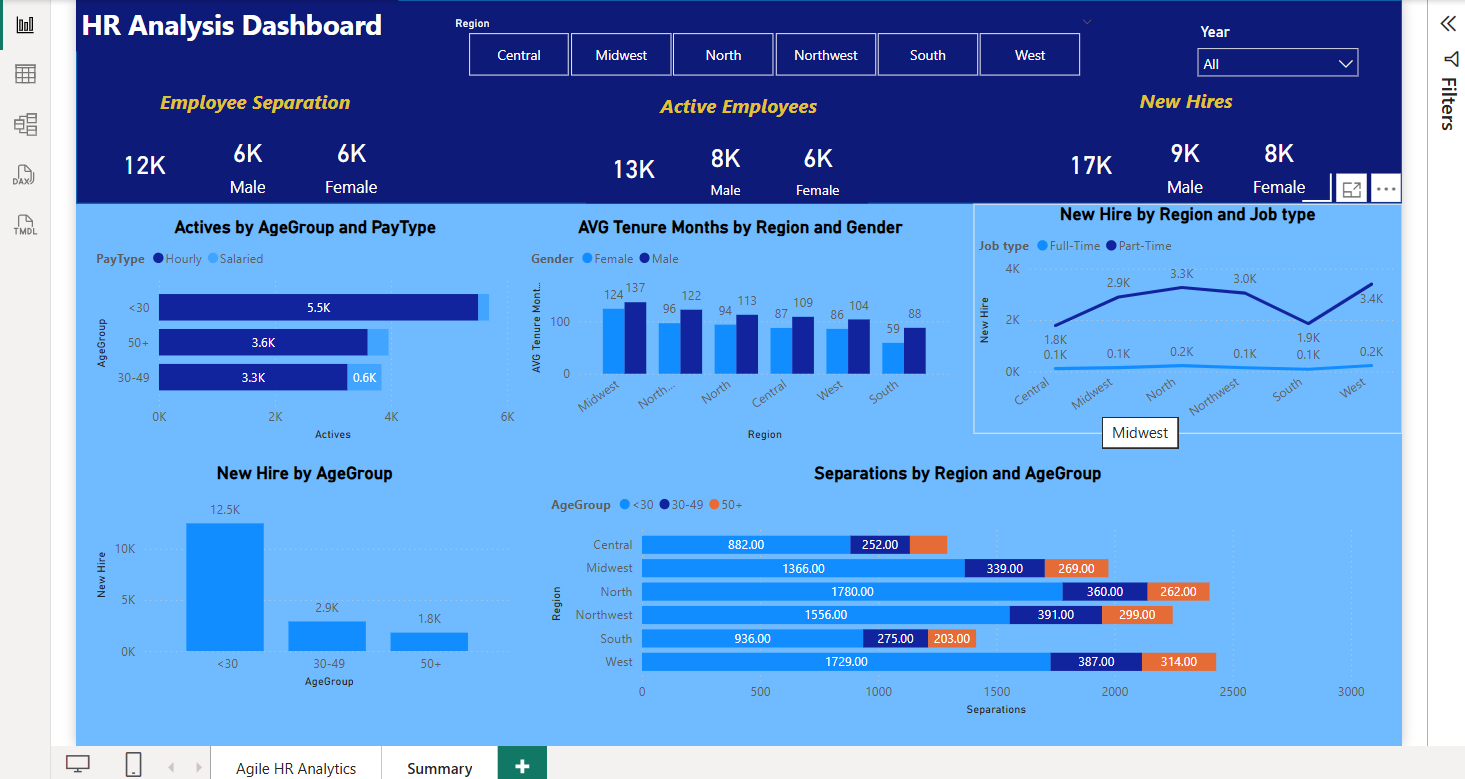

Layout of this report page (visuals, bound fields, positions):
{"tool":"powerbi","page":{"name":"Summary","canvas":[1280,720],"ordinal":1},"visuals":[{"type":"shape","box":[0,0,1280,196.6],"z":0},{"type":"cardVisual","fields":{"Data":["Key_Measures.Separations","Key_Measures.Male Separations","Key_Measures.Female Separationss"]},"box":[14.5,117,304,76],"z":0,"group":"g2"},{"type":"cardVisual","fields":{"Data":["Key_Measures.New Hire","Key_Measures.Male New Hires","Key_Measures.Female New Hires"]},"box":[932.6,117,277.5,76],"z":0,"group":"g3"},{"type":"cardVisual","fields":{"Data":["Key_Measures.Actives","Key_Measures.Male Actives","Key_Measures.Female Actives"]},"box":[492.7,122.4,271.8,74.6],"z":0,"group":"g1"},{"type":"textbox","box":[932.6,79.6,277.5,37.4],"z":1000,"group":"g3"},{"type":"textbox","box":[14.5,80.8,304,36.2],"z":1000,"group":"g2"},{"type":"textbox","box":[492.2,84.5,272.7,37.4],"z":1000,"group":"g1"},{"type":"barChart","fields":{"Category":["AgeGroup.AgeGroup"],"Y":["Key_Measures.Actives"],"Series":["PayType.PayType"]},"box":[14.5,208.7,413.8,222],"z":1000},{"type":"clusteredColumnChart","fields":{"Category":["BU.Region"],"Y":["Key_Measures.AVG Tenure Months"],"Series":["Gender.Gender"]},"box":[434.3,208.7,413.8,222],"z":2000},{"type":"lineChart","fields":{"Category":["BU.Region"],"Y":["Key_Measures.New Hire"],"Series":["FP.Job type"]},"box":[866.2,196.6,413.8,222],"z":3000},{"type":"columnChart","fields":{"Category":["AgeGroup.AgeGroup"],"Y":["Key_Measures.New Hire"]},"box":[14.5,446.4,412.6,222],"z":4000},{"type":"barChart","fields":{"Category":["BU.Region"],"Y":["Key_Measures.Separations"],"Series":["AgeGroup.AgeGroup"]},"box":[453.6,446.4,795,249.7],"z":5000},{"type":"textbox","box":[0,0,311.3,49.5],"z":6000},{"type":"slicer","fields":{"Values":["BU.Region"]},"box":[352.3,9.7,641.8,71.2],"z":7000},{"type":"slicer","fields":{"Values":["Date.Date.Variation.Date Hierarchy.Year"]},"box":[1071.3,16.9,177.3,63.9],"z":8000},{"type":"group","id":"g1","title":"Group 1","box":[492.2,84.5,272.7,112.2],"z":9000},{"type":"group","id":"g2","title":"Group 2","box":[14.5,80.8,304,112.2],"z":10000},{"type":"group","id":"g3","title":"Group 3","box":[932.6,79.6,277.5,113.4],"z":11000}]}

Visuals, with their boxes on the page's 1280x720 design canvas (x1, y1, x2, y2). These are canvas units, not pixel positions in the 1465x779 screenshot, which may show the page scaled, cropped or inside an application window:
shape: <bbox>0, 0, 1280, 197</bbox>
cardVisual - Key_Measures.Separations x Key_Measures.Male Separations: <bbox>14, 117, 318, 193</bbox>
cardVisual - Key_Measures.New Hire x Key_Measures.Male New Hires: <bbox>933, 117, 1210, 193</bbox>
cardVisual - Key_Measures.Actives x Key_Measures.Male Actives: <bbox>493, 122, 764, 197</bbox>
textbox: <bbox>933, 80, 1210, 117</bbox>
textbox: <bbox>14, 81, 318, 117</bbox>
textbox: <bbox>492, 84, 765, 122</bbox>
barChart - AgeGroup.AgeGroup x Key_Measures.Actives: <bbox>14, 209, 428, 431</bbox>
clusteredColumnChart - BU.Region x Key_Measures.AVG Tenure Months: <bbox>434, 209, 848, 431</bbox>
lineChart - BU.Region x Key_Measures.New Hire: <bbox>866, 197, 1280, 419</bbox>
columnChart - AgeGroup.AgeGroup x Key_Measures.New Hire: <bbox>14, 446, 427, 668</bbox>
barChart - BU.Region x Key_Measures.Separations: <bbox>454, 446, 1249, 696</bbox>
textbox: <bbox>0, 0, 311, 50</bbox>
slicer - BU.Region: <bbox>352, 10, 994, 81</bbox>
slicer - Date.Date.Variation.Date Hierarchy.Year: <bbox>1071, 17, 1249, 81</bbox>
"Group 1" group: <bbox>492, 84, 765, 197</bbox>
"Group 2" group: <bbox>14, 81, 318, 193</bbox>
"Group 3" group: <bbox>933, 80, 1210, 193</bbox>
